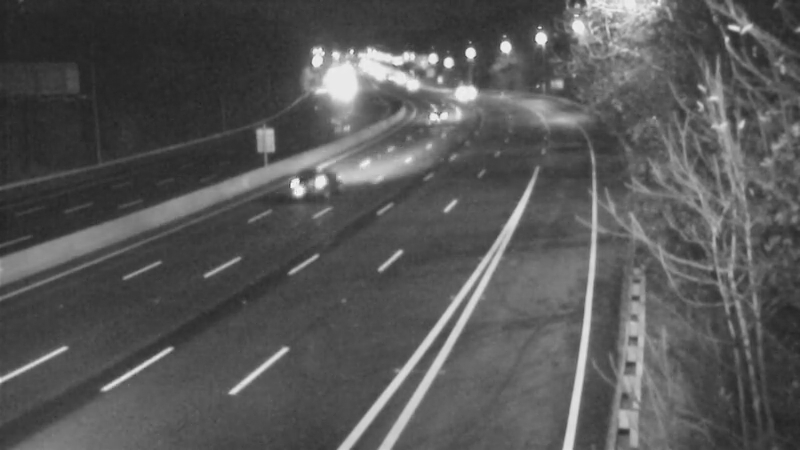vehicle: (277, 142, 357, 222), (385, 61, 435, 111), (436, 69, 486, 119), (409, 95, 459, 145)
